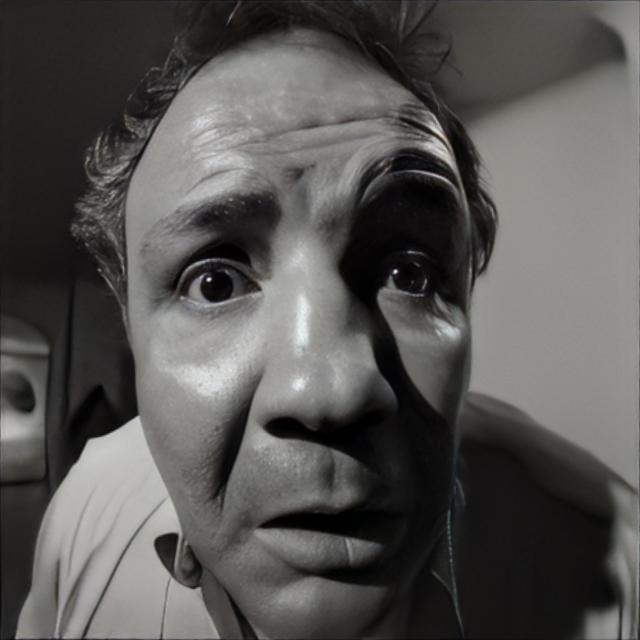Fear: (122, 21, 476, 640)
